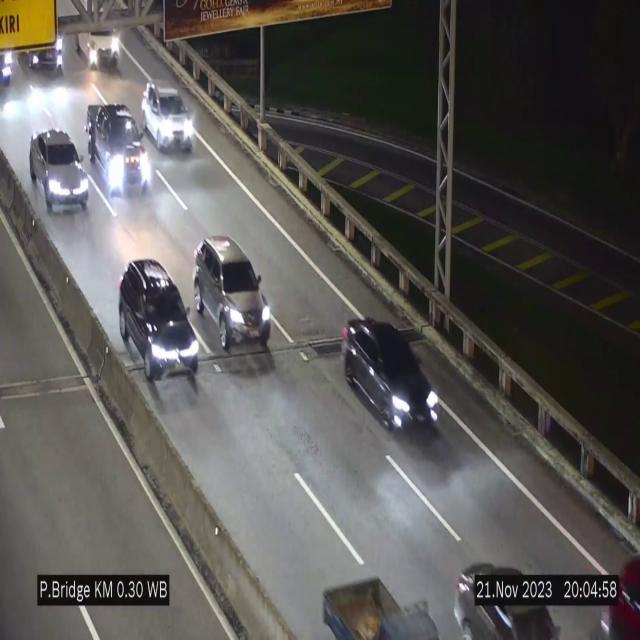Car: (440, 547, 564, 640), (342, 318, 440, 430), (119, 259, 199, 395), (194, 237, 272, 353), (85, 102, 151, 208), (586, 543, 640, 640), (30, 129, 89, 212), (71, 3, 127, 72), (142, 81, 196, 150), (18, 12, 66, 82), (0, 30, 16, 91)
Truck: (310, 561, 450, 640)
